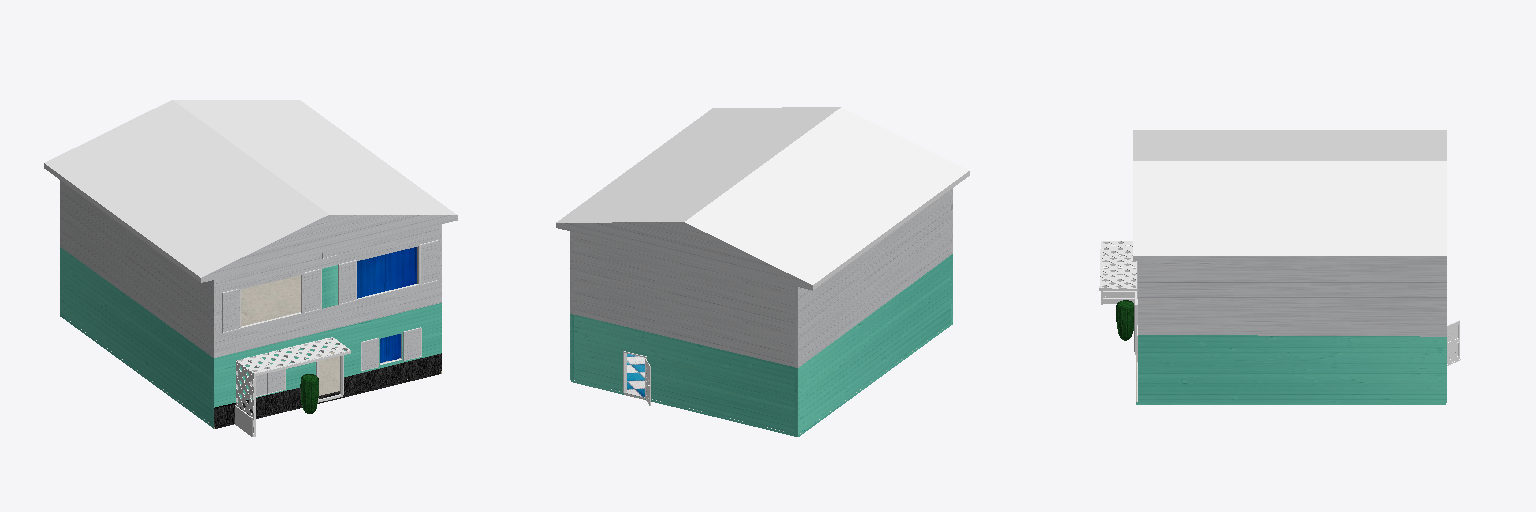
3 renders of one model, left to right at view 1: azimuth 30°, elevation 25°; view 2: azimuth 150°, elevation 25°; view 3: azimuth 270°, elevation 25°, orthographic.
Visible parts, largest first — view 1: pCube130, Mesh41, initialShadingGroup pCube130; view 2: pCube130; view 3: pCube130, initialShadingGroup pCube130.
Part boxes in pixels (x1,y1,x2,y2): pCube130: (44,100,457,436); Mesh41: (357,247,416,298); initialShadingGroup pCube130: (214,240,441,428); pCube130: (556,107,969,436); pCube130: (1099,130,1460,402); initialShadingGroup pCube130: (1116,300,1445,404).
Bounding box in the file's own units: 16.62 × 11.77 × 20.25.
20 materials, 18 textured.